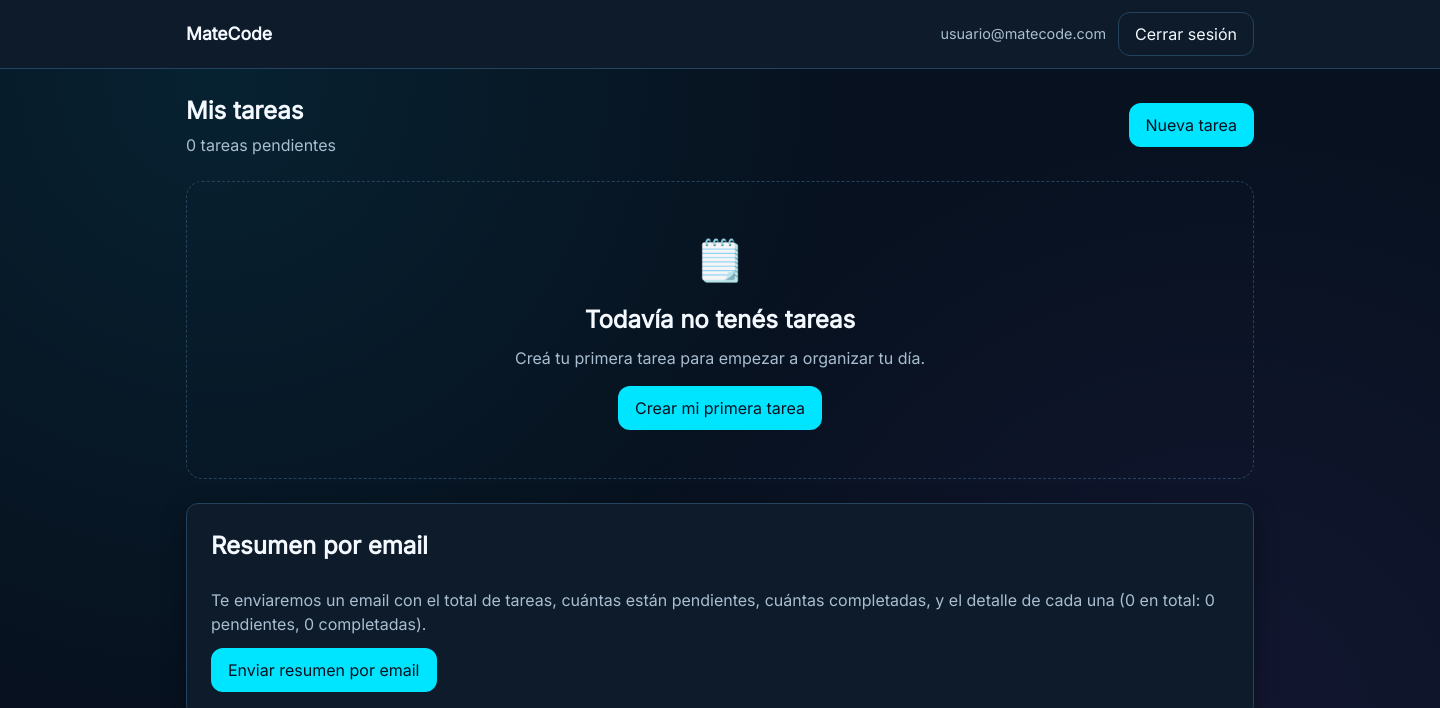
Test case: TasksPage › muestra un error comprensible si Firestore rechaza la creación
The image size is (1440, 708).
Expected: the heading "Todavía no tenés tareas" is shown, x1=585 y1=305 x2=855 y2=334
Click the button "Nueva tarea" at x=1191, y=125, box x1=1128 y1=103 x2=1254 y2=147
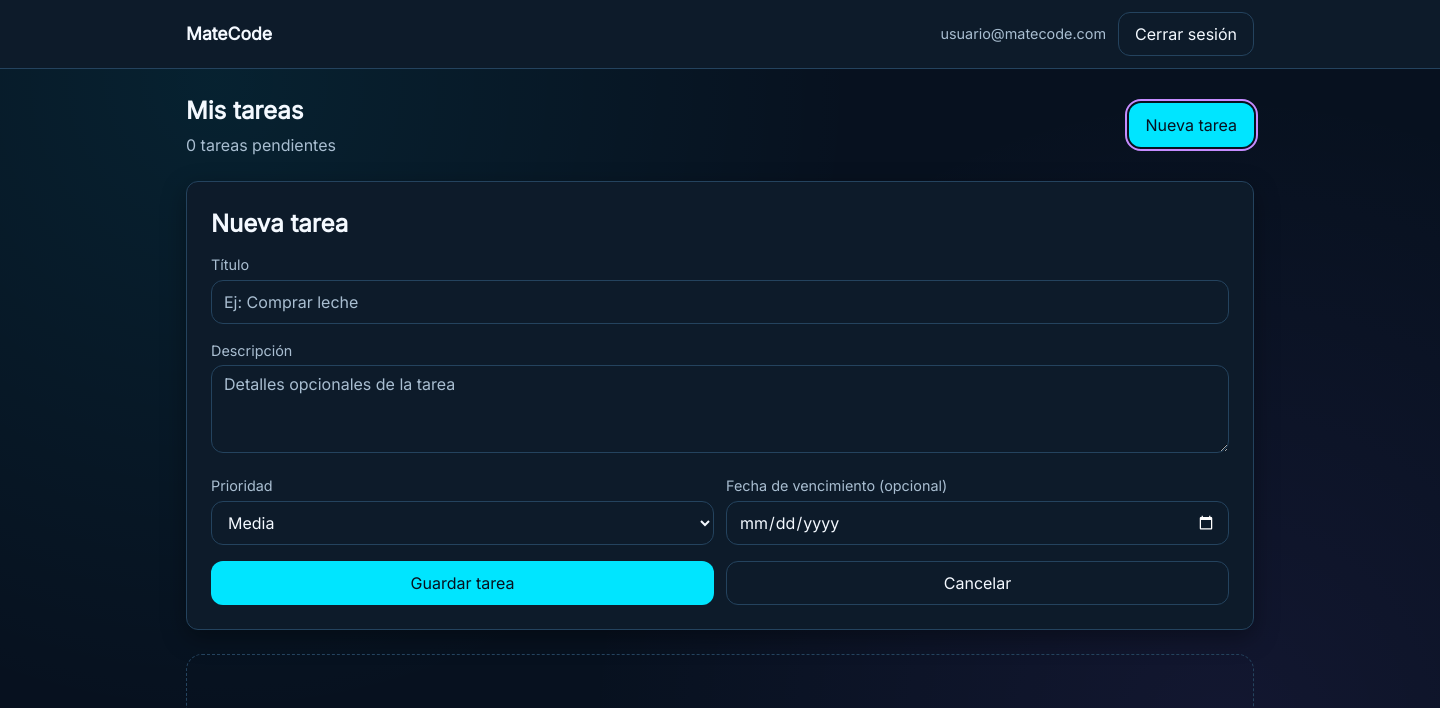
Type "Comprar leche" into the field labelled "Título" at x=720, y=302, box x1=211 y1=280 x2=1229 y2=324
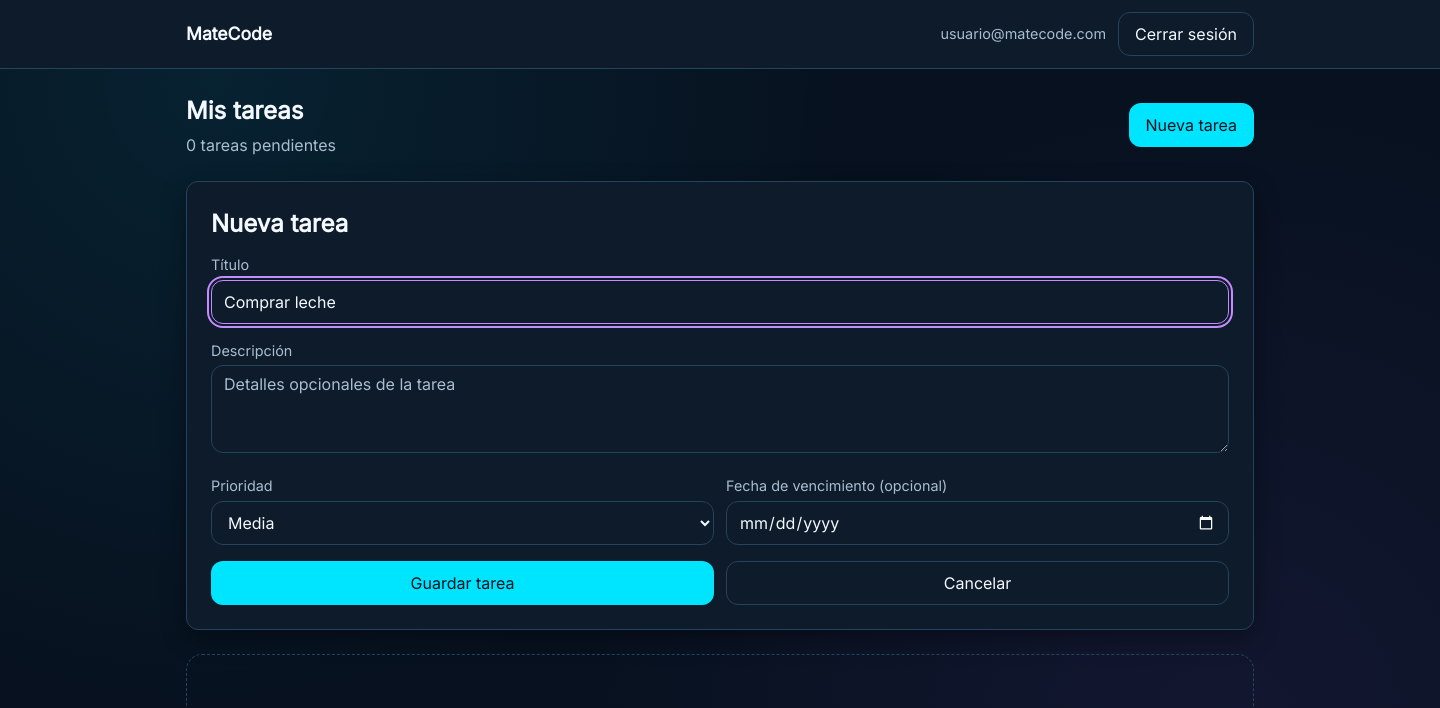
Click the button "Guardar tarea" at x=462, y=583, box x1=211 y1=561 x2=714 y2=605
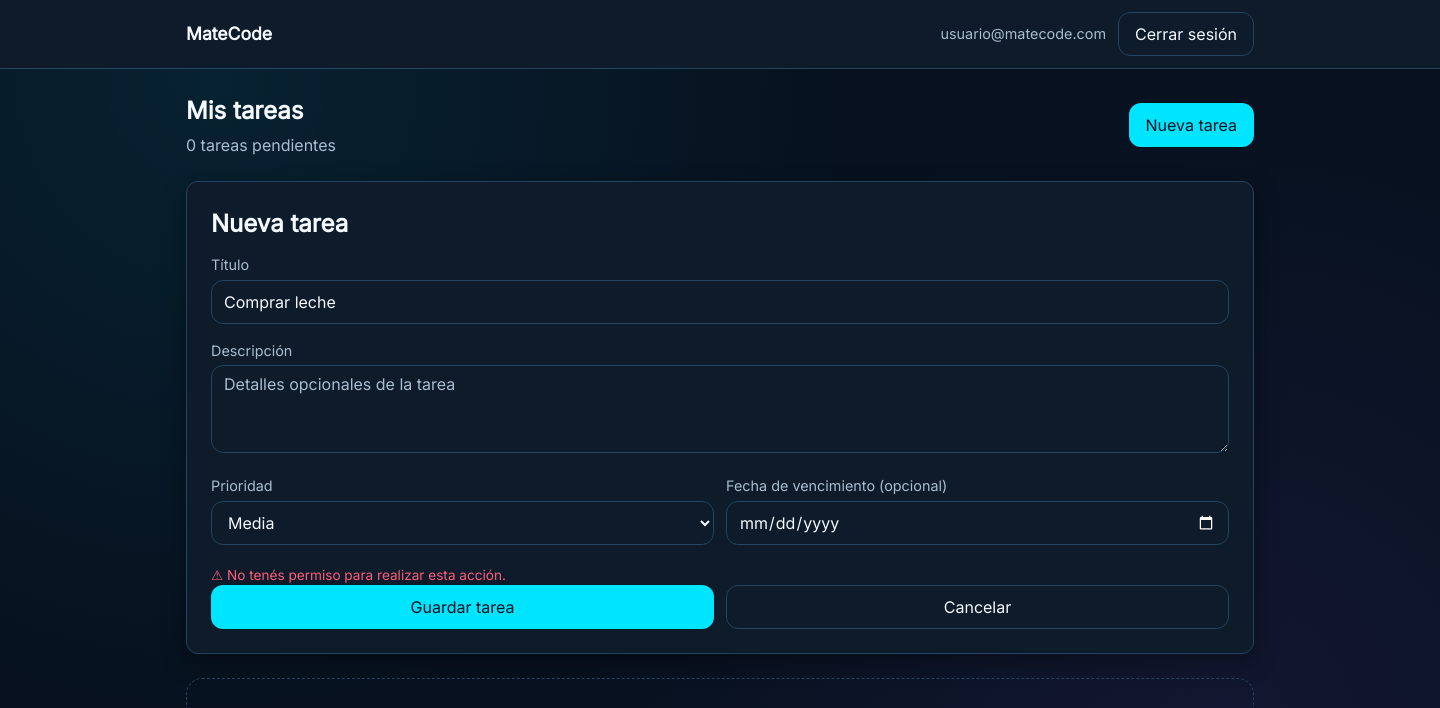
Now the text "⚠ No tenés permiso para realizar esta acción." is shown, box x1=211 y1=567 x2=506 y2=583
